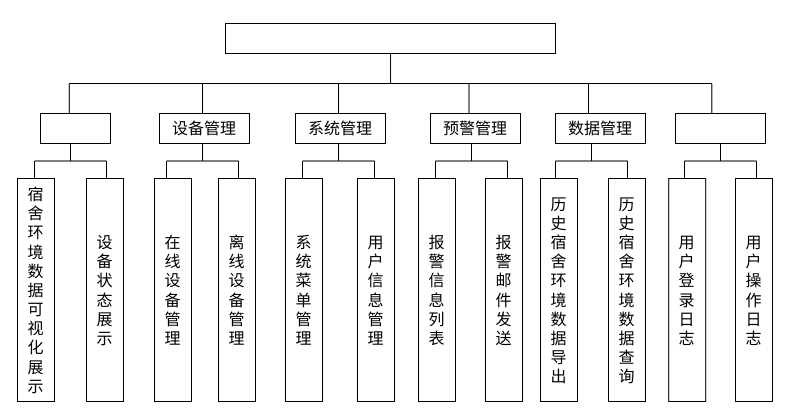
This 790x419 diagram has some shape labels left out. Here are the shapes that lost their labels. From the top down, the centre of each, then its label:
At point (390, 38): "基于物联网 技术的宿舍 环境监测与预警系统".
At point (75, 128): "控制台".
At point (720, 128): "日志管理".
